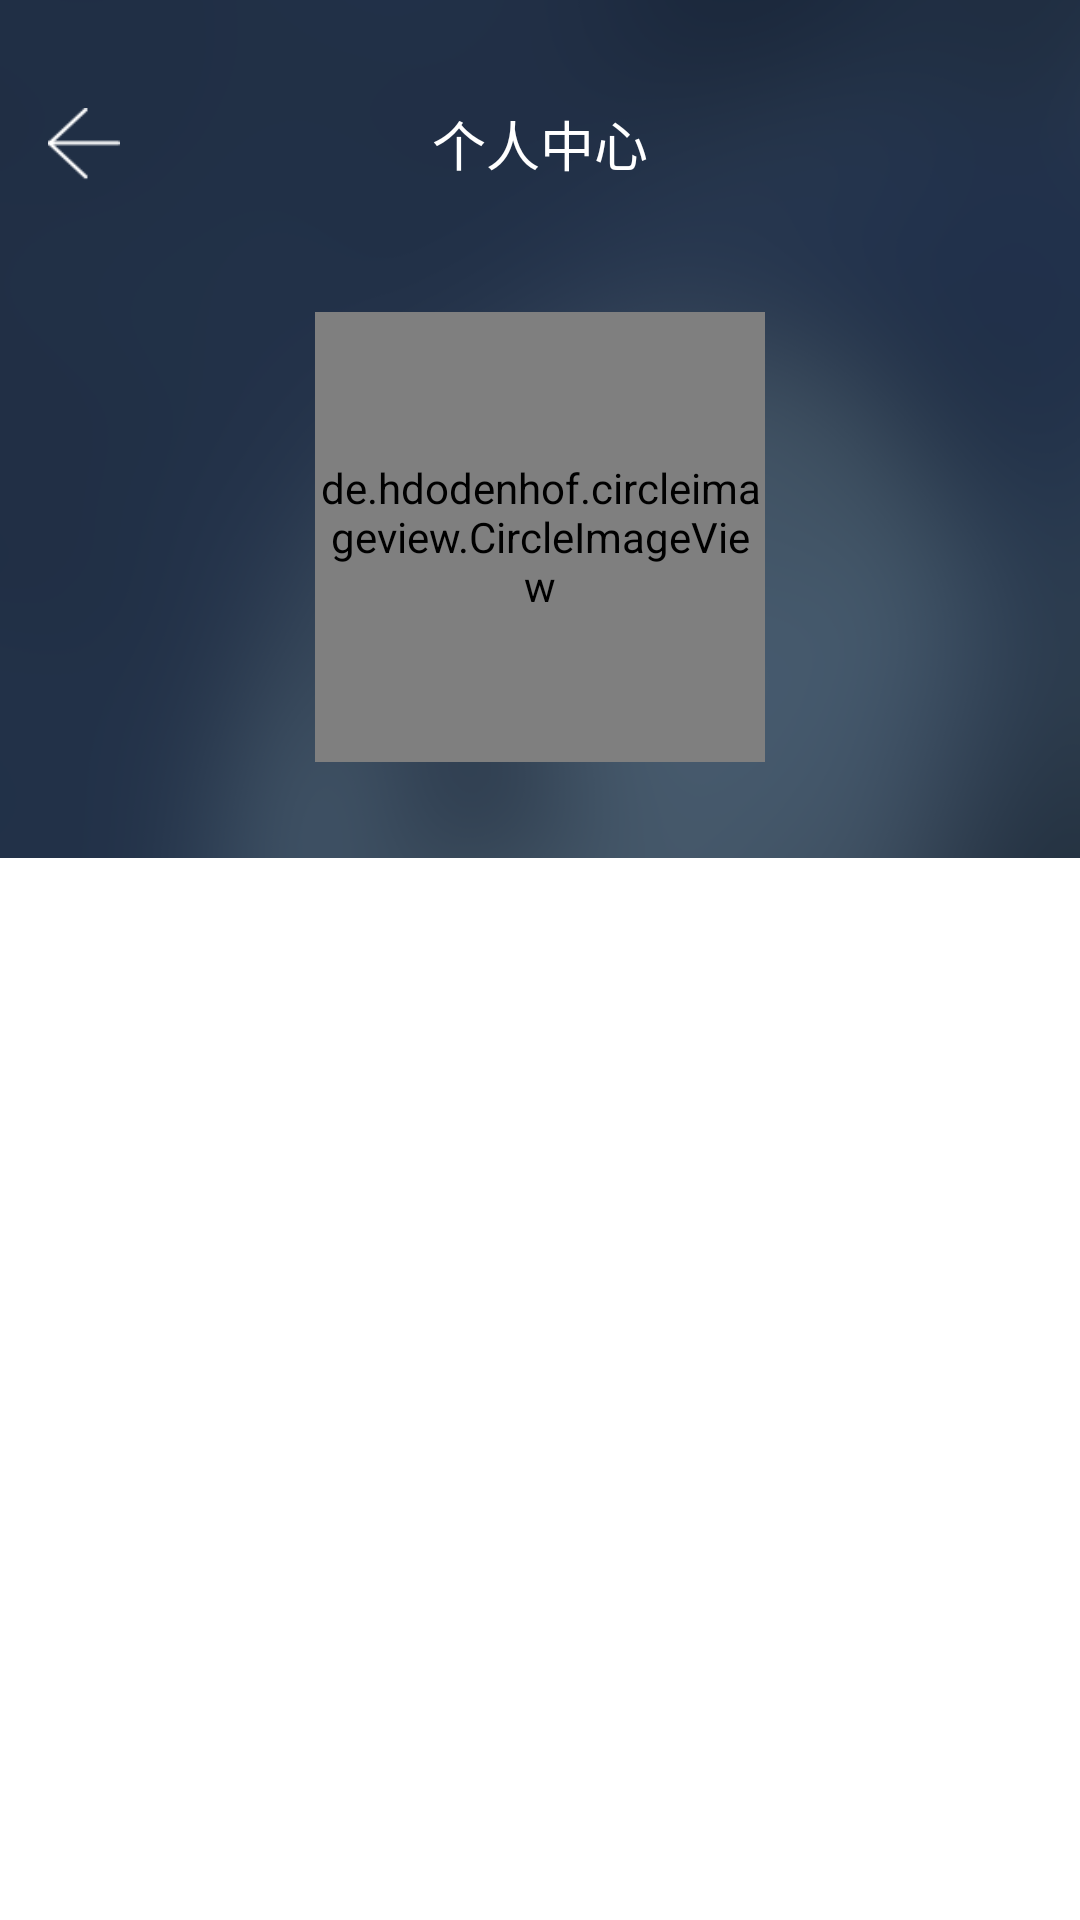

Where to tap for icons on this 1080w x 1920h app screen, as (x,y):
back: (84,143)
